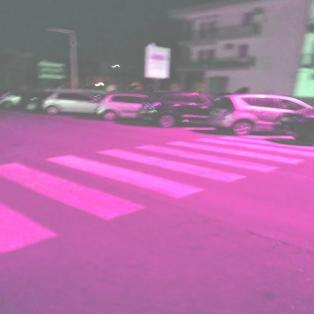Paso de Cebra: (40, 147, 249, 202)
